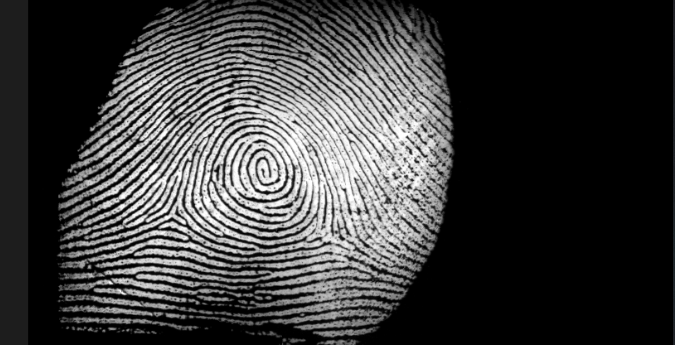deltas: (152, 190, 199, 235), (300, 212, 347, 255)
nucleo: (237, 141, 285, 190)
